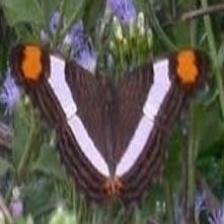butterfly: (10, 44, 207, 206)
